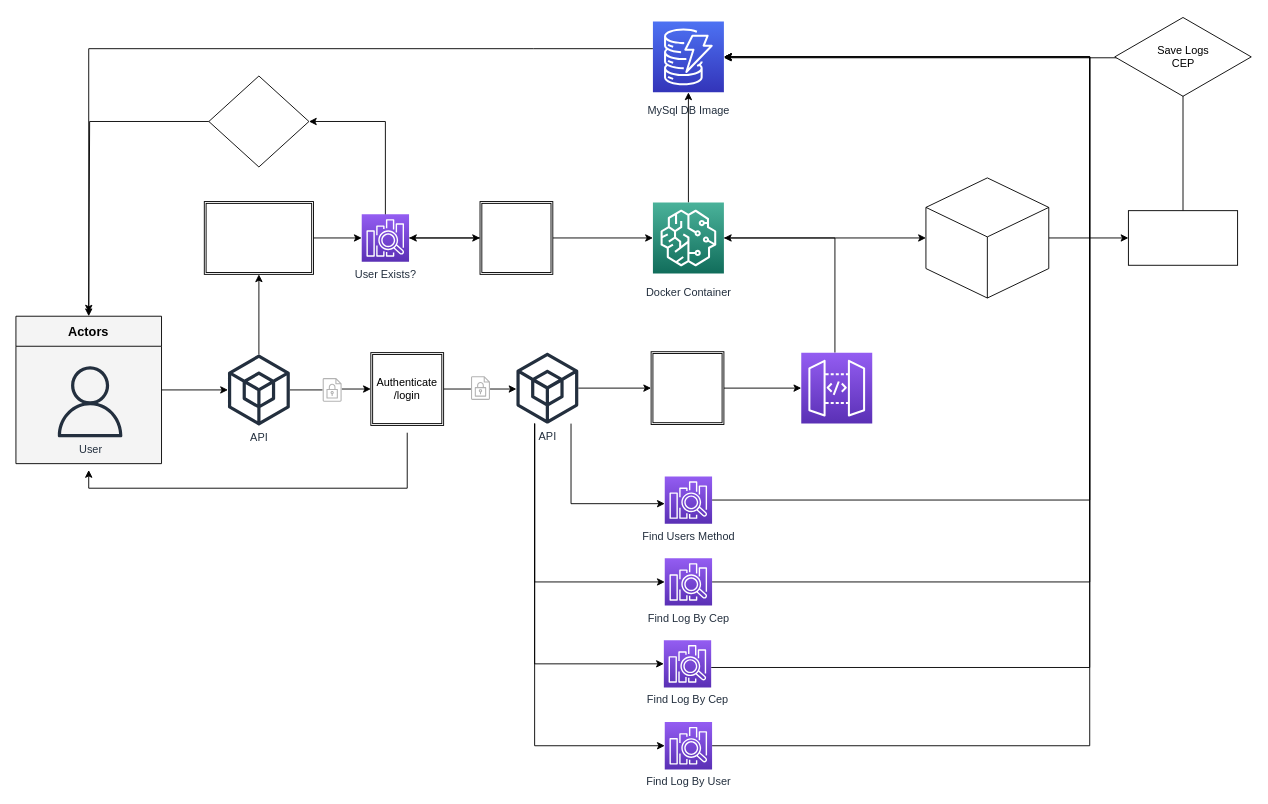
Image size: 1268x804. Some labels were removed from this diagram. Each missing label, with the centre of its shape:
"API GTW" goes at point 836,388.
"Api Image CEP Docker Wiremock" goes at point 987,237.
"Create User" goes at point 258,237.
"Find CEP Method" goes at point 687,388.
"LogService" goes at point 1182,237.
"User Credentials" goes at point 516,237.
"User Exists Exception" goes at point 258,121.
